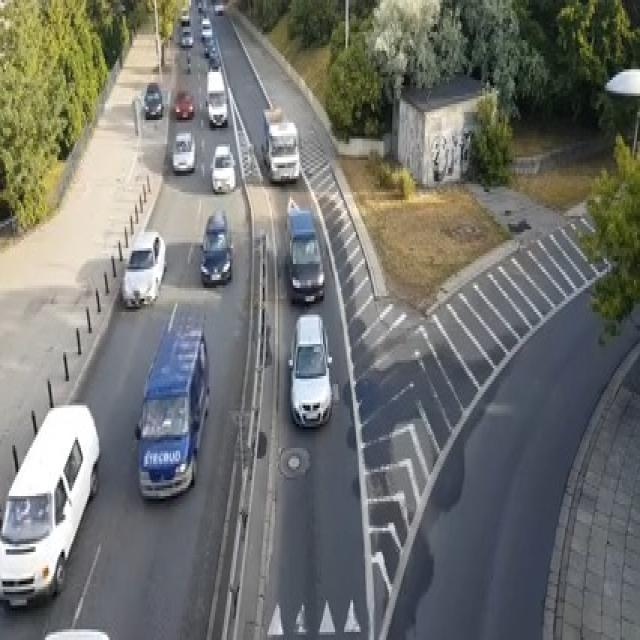bus: (134, 301, 209, 499)
car: (0, 403, 101, 608), (287, 312, 332, 427), (286, 195, 324, 304), (120, 229, 165, 307), (260, 107, 299, 184), (200, 208, 233, 285), (210, 144, 236, 192), (206, 67, 227, 125), (172, 131, 196, 173), (38, 627, 117, 637), (142, 83, 164, 117), (173, 88, 194, 117), (200, 16, 212, 40), (204, 35, 217, 56), (179, 27, 194, 45), (180, 8, 190, 24), (214, 3, 222, 13)
